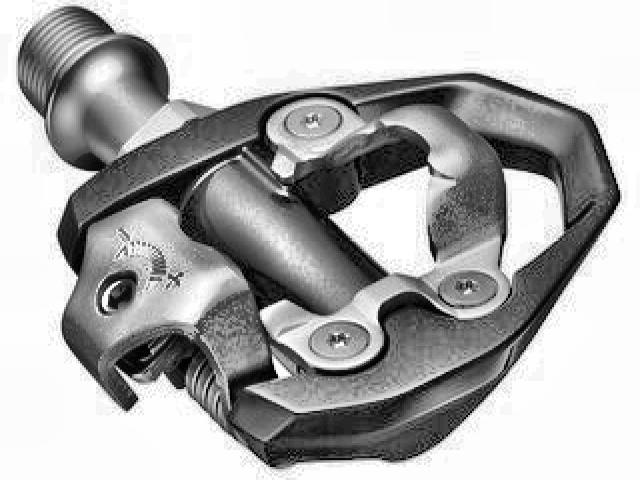pedal: (14, 4, 621, 466)
